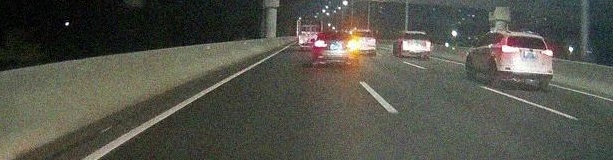L_light: (501, 45, 518, 53), (314, 40, 327, 47), (402, 40, 408, 44)
R_light: (541, 49, 553, 57), (347, 41, 358, 48), (425, 41, 431, 45)
T_light: (522, 36, 533, 39), (332, 33, 340, 35), (413, 33, 419, 35)
night-no: (500, 31, 554, 87), (401, 31, 432, 57)
night-right: (313, 32, 359, 68)
